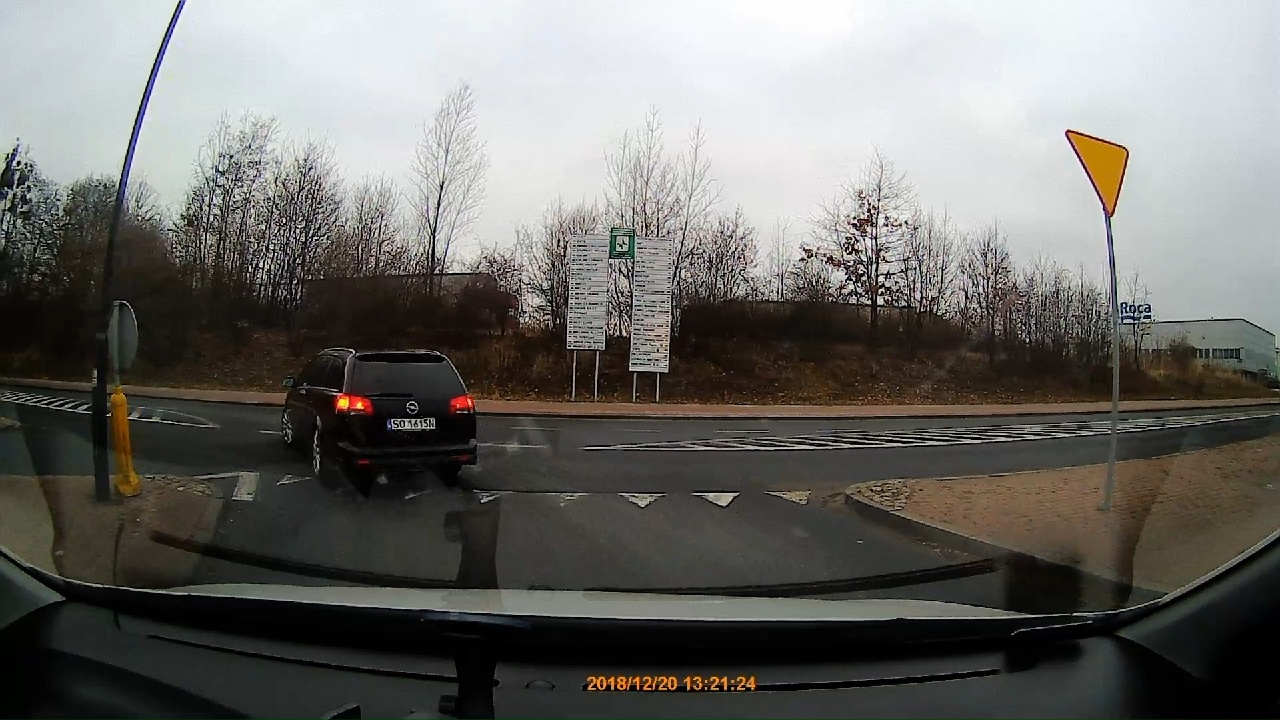A7: (1053, 127, 1139, 217)
